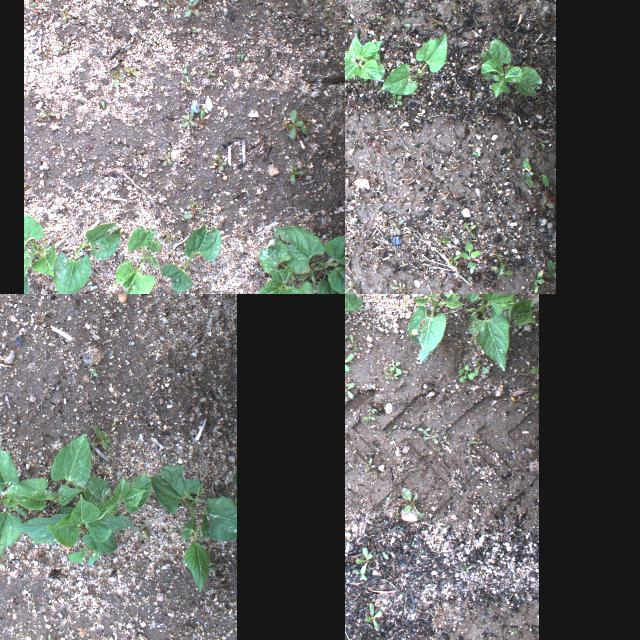crop: (8, 430, 152, 562), (151, 464, 235, 594), (463, 294, 538, 370), (51, 222, 122, 294), (270, 226, 345, 294), (378, 33, 447, 95), (160, 224, 220, 292), (406, 294, 464, 360), (481, 38, 542, 96), (254, 241, 318, 294), (114, 227, 159, 294), (23, 210, 54, 294), (0, 436, 17, 563), (345, 32, 384, 86)
weed: (458, 238, 482, 272), (401, 486, 425, 520), (286, 109, 308, 139), (363, 601, 383, 631), (91, 422, 111, 451), (128, 519, 152, 541), (432, 229, 454, 249), (491, 262, 514, 280), (522, 155, 534, 187), (531, 268, 545, 294), (288, 164, 306, 184), (534, 195, 554, 213), (458, 363, 474, 383), (353, 546, 372, 562), (474, 359, 490, 377), (388, 218, 404, 235), (352, 563, 368, 579), (184, 0, 199, 16), (212, 154, 226, 170), (388, 92, 402, 108), (85, 366, 101, 380), (347, 333, 359, 351), (416, 426, 432, 439), (345, 377, 354, 400), (545, 259, 555, 279), (39, 632, 64, 640), (180, 112, 194, 126), (388, 359, 402, 373), (464, 222, 476, 238), (465, 448, 477, 464), (345, 351, 354, 372), (390, 282, 408, 292), (345, 278, 357, 293), (375, 14, 389, 26), (364, 457, 376, 471), (429, 429, 439, 445), (362, 414, 378, 424), (128, 630, 143, 640), (448, 254, 460, 266), (384, 372, 402, 380), (382, 494, 392, 508), (376, 548, 390, 558), (386, 422, 398, 433), (364, 422, 380, 430), (536, 138, 548, 148), (432, 446, 444, 456), (541, 173, 549, 187), (459, 563, 469, 573), (392, 510, 402, 520), (508, 626, 518, 634), (345, 160, 351, 173), (403, 294, 407, 310), (470, 437, 480, 443), (466, 382, 476, 388), (472, 150, 481, 156), (368, 406, 377, 412), (532, 392, 538, 400), (345, 250, 348, 262), (457, 636, 466, 640), (444, 524, 450, 530), (401, 462, 405, 471), (532, 366, 538, 372), (498, 620, 504, 624), (438, 522, 442, 528)
